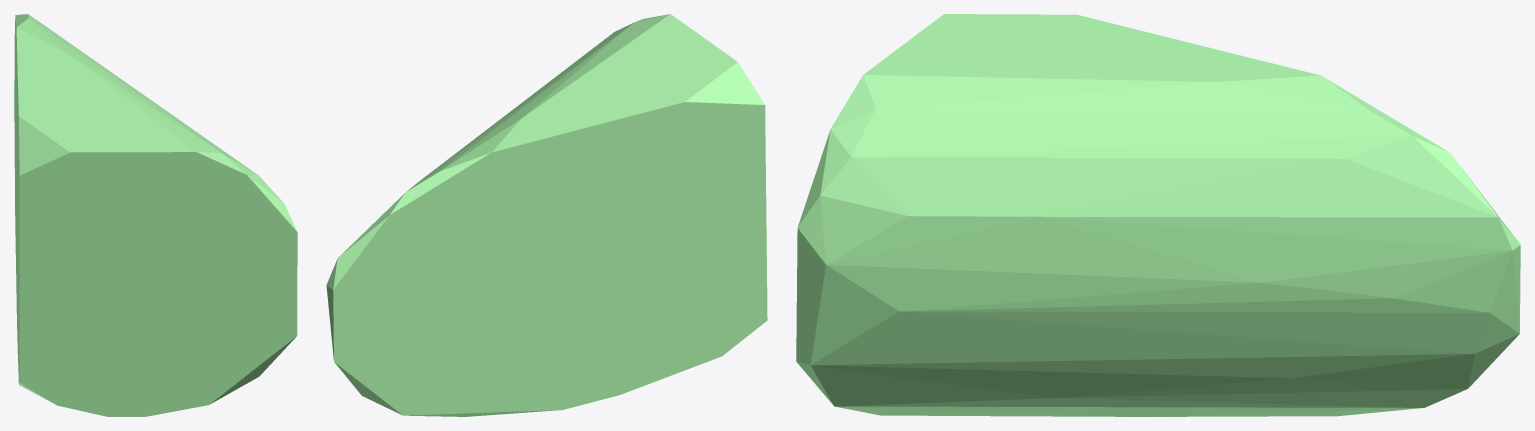
Rendered from palle_scrotali_buone_R_link3_respondable_coll_4.dae.
The picture shows the model from 3 angles, left to right: view 1: azimuth 30°, elevation 25°; view 2: azimuth 150°, elevation 25°; view 3: azimuth 270°, elevation 25°; orthographic projection. The views are drawn at different scales.
Visible parts, largest first — view 1: Node_000002334E245290; view 2: Node_000002334E245290; view 3: Node_000002334E245290.
Boxes of the visible parts, x1=… form: Node_000002334E245290: x1=14, y1=14, x2=297, y2=416; Node_000002334E245290: x1=326, y1=14, x2=767, y2=416; Node_000002334E245290: x1=796, y1=14, x2=1520, y2=416.
Bounding box in the file's own units: 0.0934 × 0.106 × 0.201.
